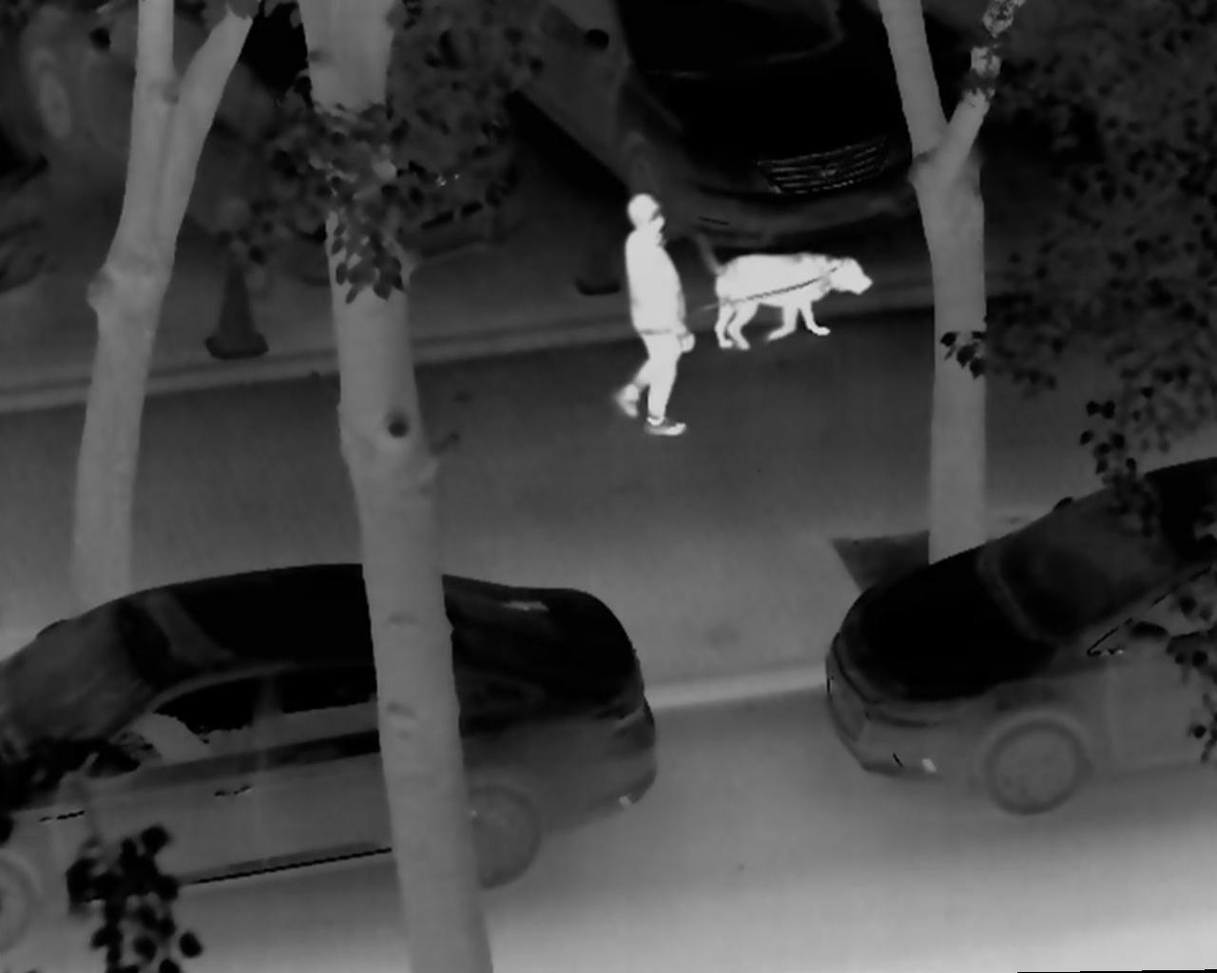person: (615, 190, 696, 435)
